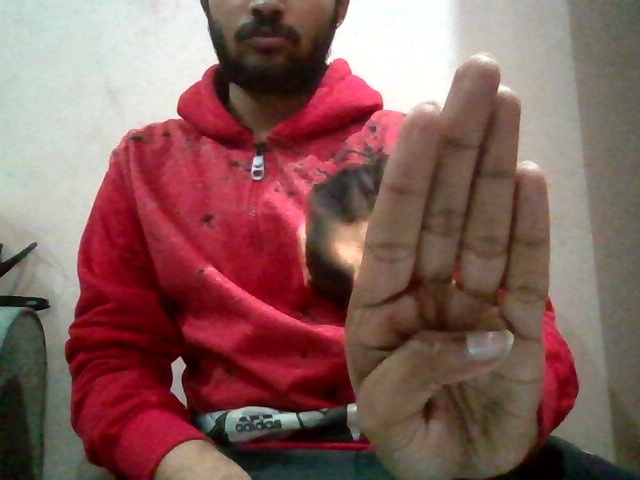B: (326, 47, 576, 480)
